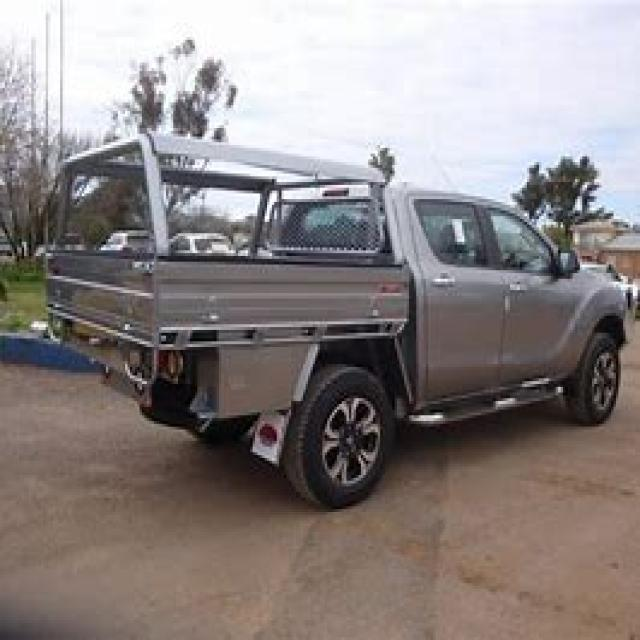light_vehicle: (29, 122, 637, 509)
